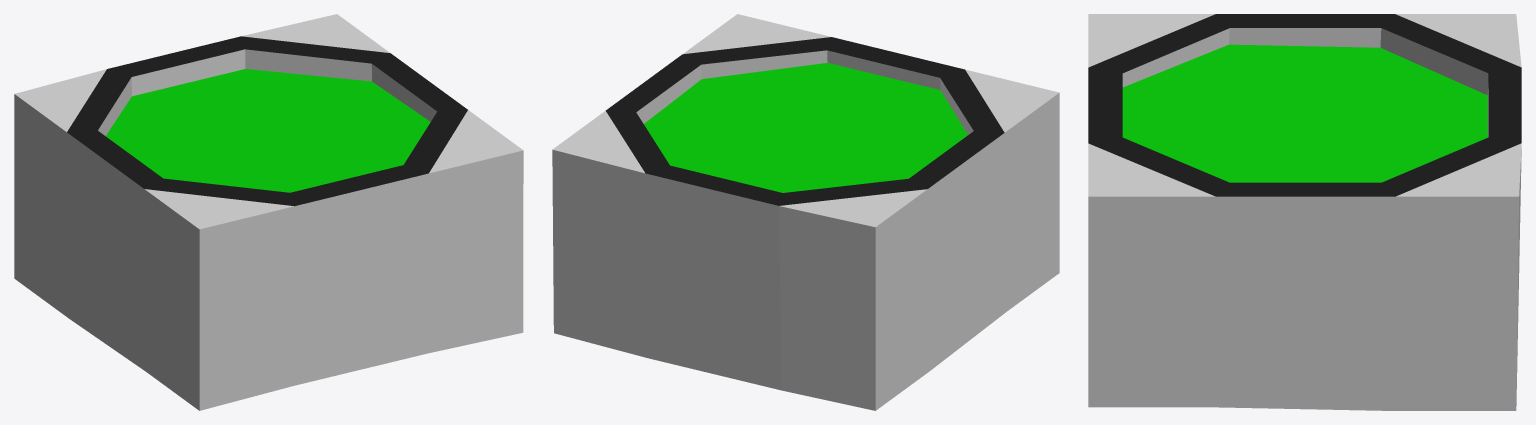
File: Casilla.fbx
3 views of the same model, side by side, from view 1: azimuth 30°, elevation 25°; view 2: azimuth 150°, elevation 25°; view 3: azimuth 270°, elevation 25° (orthographic). The views are drawn at different scales.
Visible parts, largest first — view 1: Cylinder; view 2: Cylinder; view 3: Cylinder.
Part boxes in pixels (x1,y1,x2,y2): Cylinder: [14, 14, 523, 410]; Cylinder: [552, 14, 1059, 410]; Cylinder: [1088, 14, 1521, 410].
Bounding box in the file's own units: 185 × 102 × 185.
